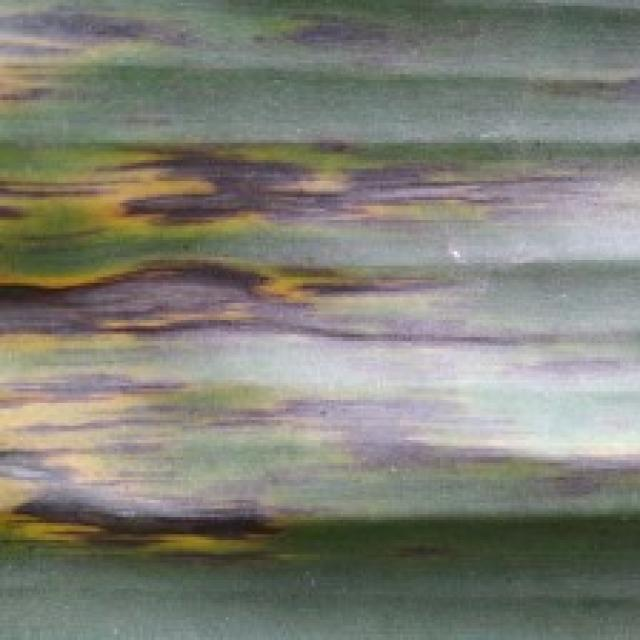Early_leaf_spot: (0, 256, 640, 567), (0, 130, 640, 264), (0, 0, 214, 140), (271, 0, 496, 92)
